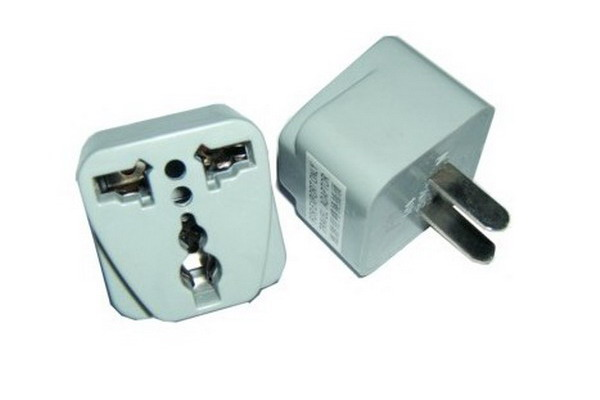Three_eye_plug: (271, 31, 515, 286), (68, 98, 294, 327)
